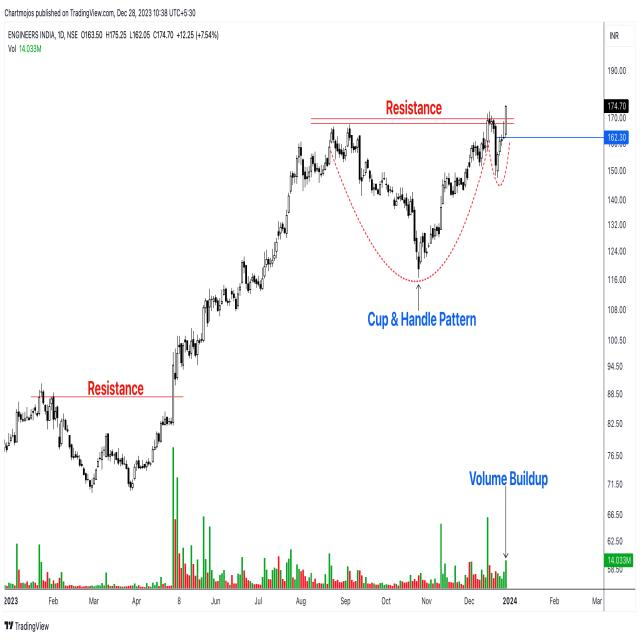Cup-and-handle: (324, 118, 514, 278)
